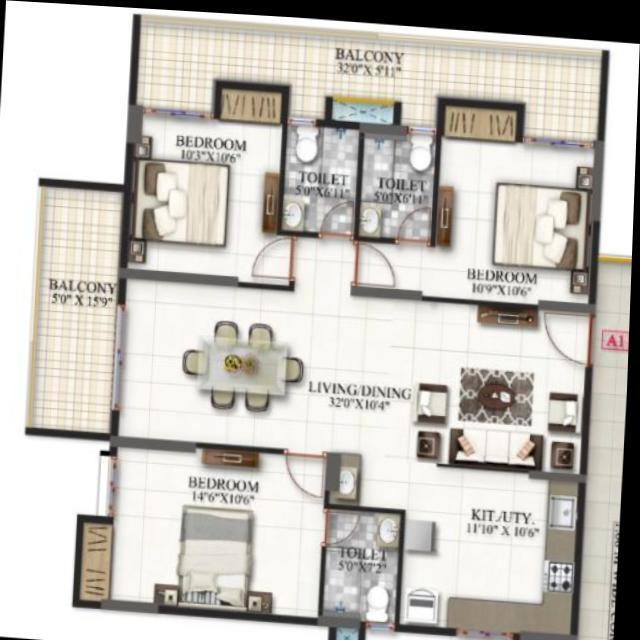Balcony-Sitout: (127, 13, 604, 138), (26, 175, 129, 438)
Bedroom: (121, 103, 290, 287)
Bedroom with Toilet: (114, 438, 410, 623), (360, 119, 604, 302)
Dining: (182, 313, 310, 414)
Kitchen: (399, 457, 591, 637)
Living: (412, 287, 598, 474)
Toilet: (322, 498, 410, 625), (279, 113, 366, 235), (354, 119, 441, 238)
